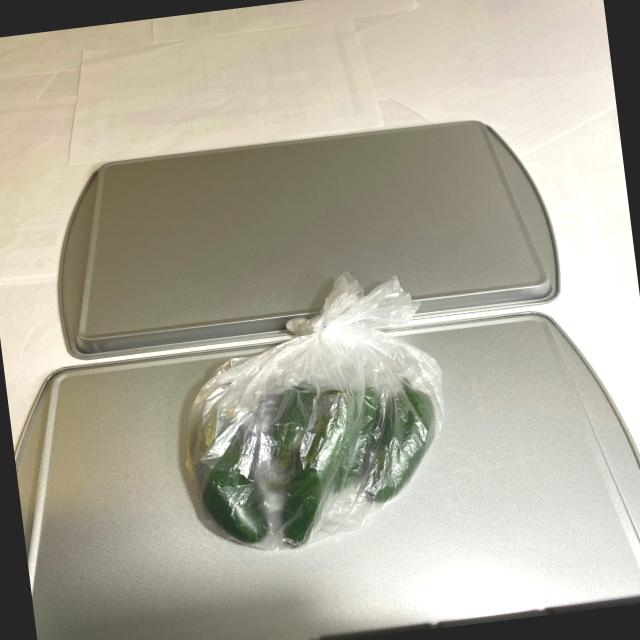chilli: (164, 314, 462, 558)
